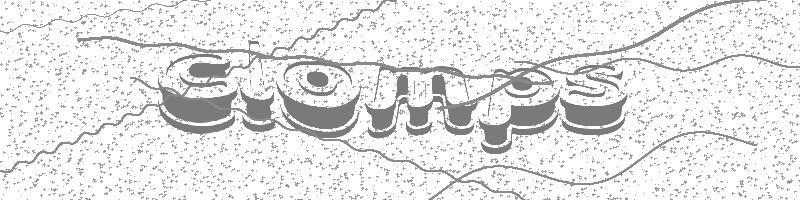c: (156, 51, 238, 135)
l: (239, 38, 277, 134)
m: (365, 65, 477, 140)
o: (276, 59, 362, 139)
p: (479, 67, 560, 155)
s: (559, 63, 627, 137)
